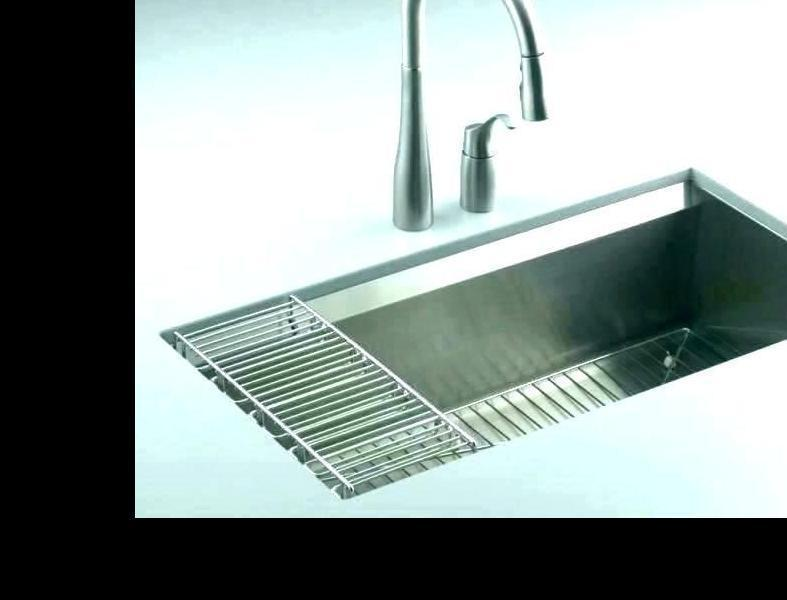Lavaplatos: (175, 0, 787, 491)
